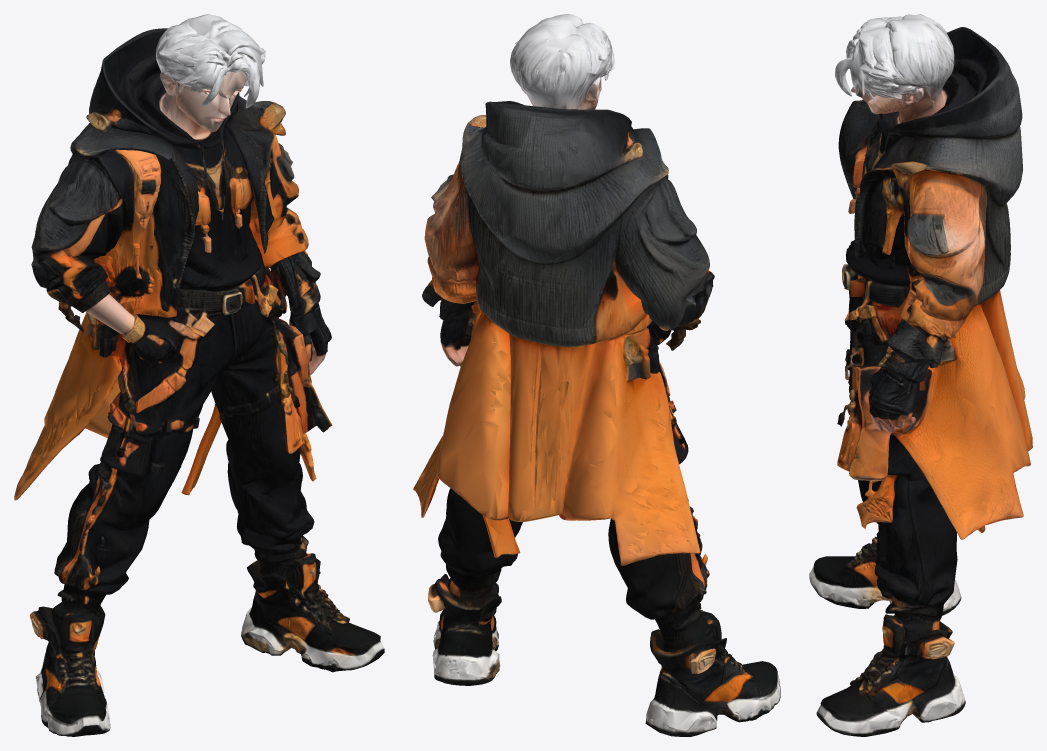
File: rowan.glb
3 renders of one model, left to right at view 1: azimuth 30°, elevation 25°; view 2: azimuth 150°, elevation 25°; view 3: azimuth 270°, elevation 25°, orthographic.
Visible parts, largest first — view 1: model; view 2: model; view 3: model.
Boxes of the visible parts, x1,y1,x2,y2 form: model: (14,14,384,736); model: (413,14,780,736); model: (809,14,1032,736).
Bounding box in the file's own units: 0.9919 × 1.9 × 0.59.
Materials: 1 (1 with a texture image).
